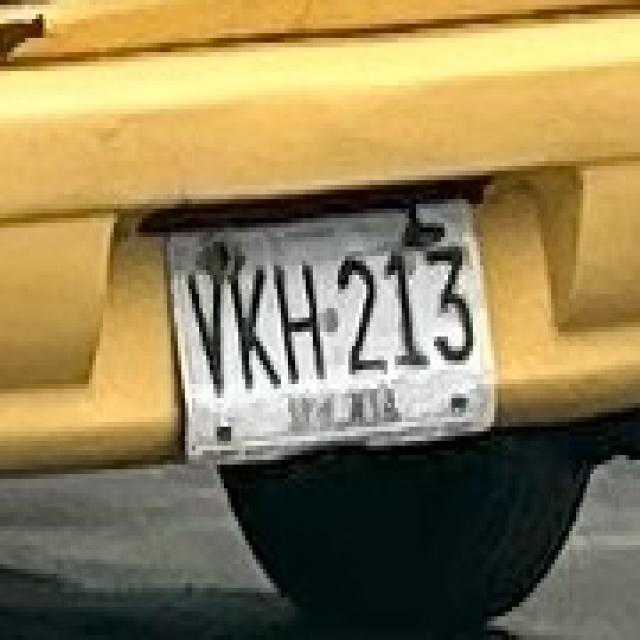number plate: (167, 194, 487, 455)
